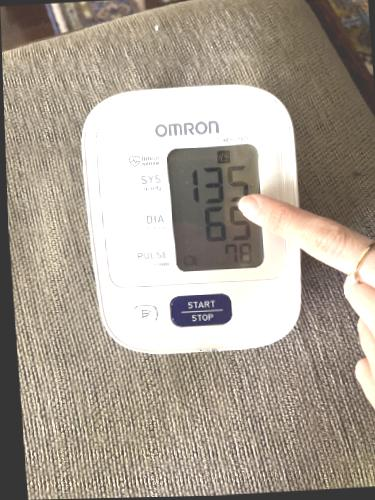bpm: (163, 140, 268, 279)
